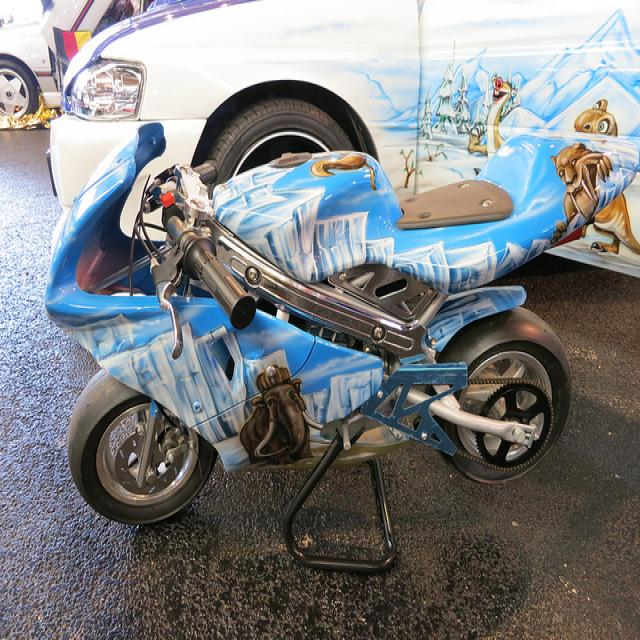motor: (50, 133, 594, 526)
